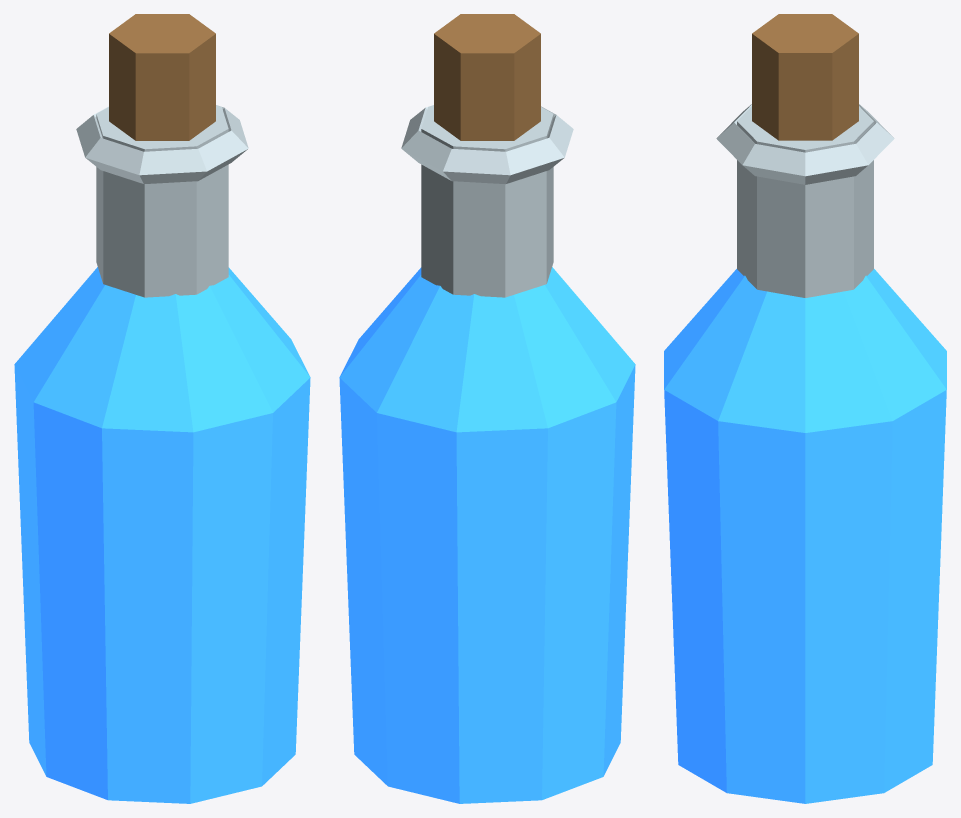
Rendered from potion_blue.fbx.
3 views of the same model, side by side, from view 1: azimuth 30°, elevation 25°; view 2: azimuth 150°, elevation 25°; view 3: azimuth 270°, elevation 25° (orthographic).
Parts seen in each view (by area): view 1: potion_blue; view 2: potion_blue; view 3: potion_blue.
Boxes of the visible parts, box(x1,y1,x2,y2) form: potion_blue: box(14, 14, 310, 803); potion_blue: box(339, 14, 635, 803); potion_blue: box(664, 14, 946, 803).
Size of the model in its own units: 0.1 by 0.265 by 0.0951.
